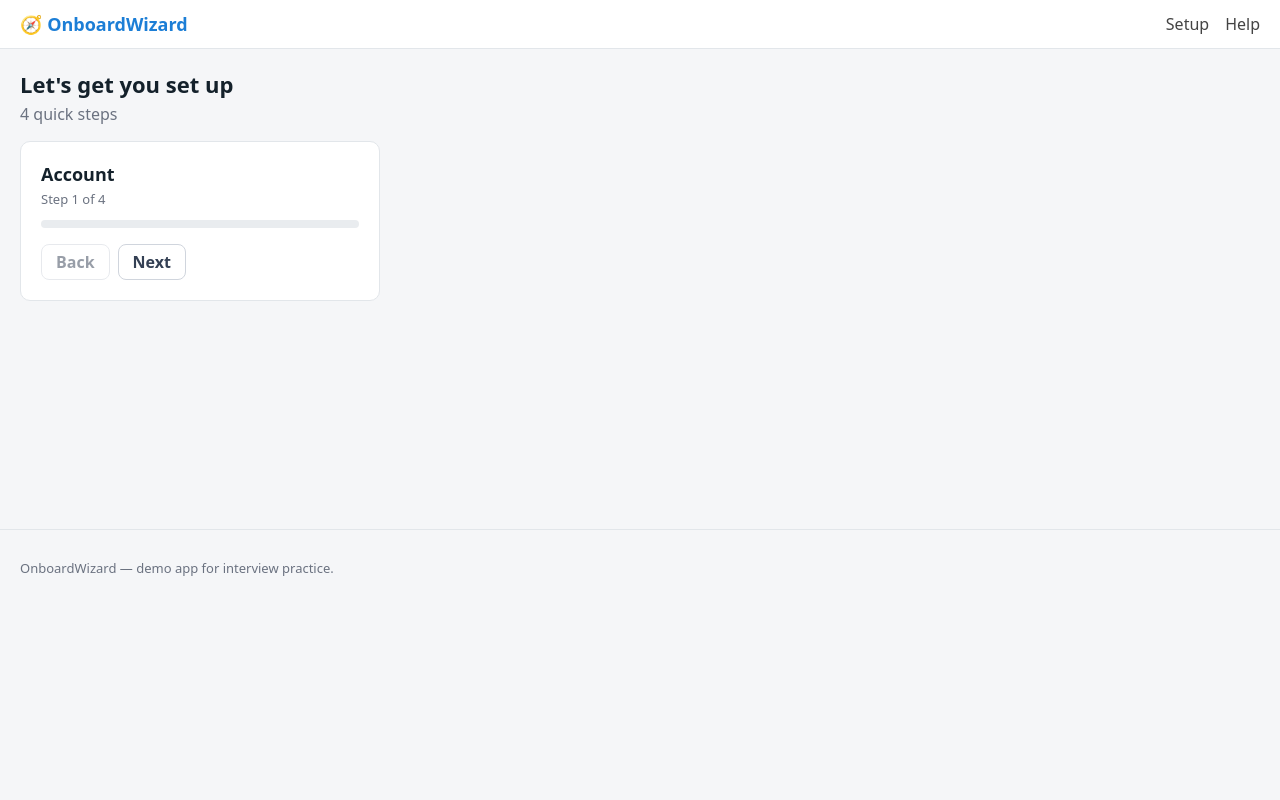
Test: m07 · OnboardWizard — app renders › navigates to the Help route via the navbar
Click the link with test id "nav-help" at (1243, 24), box left=1225, top=13, right=1260, bottom=35
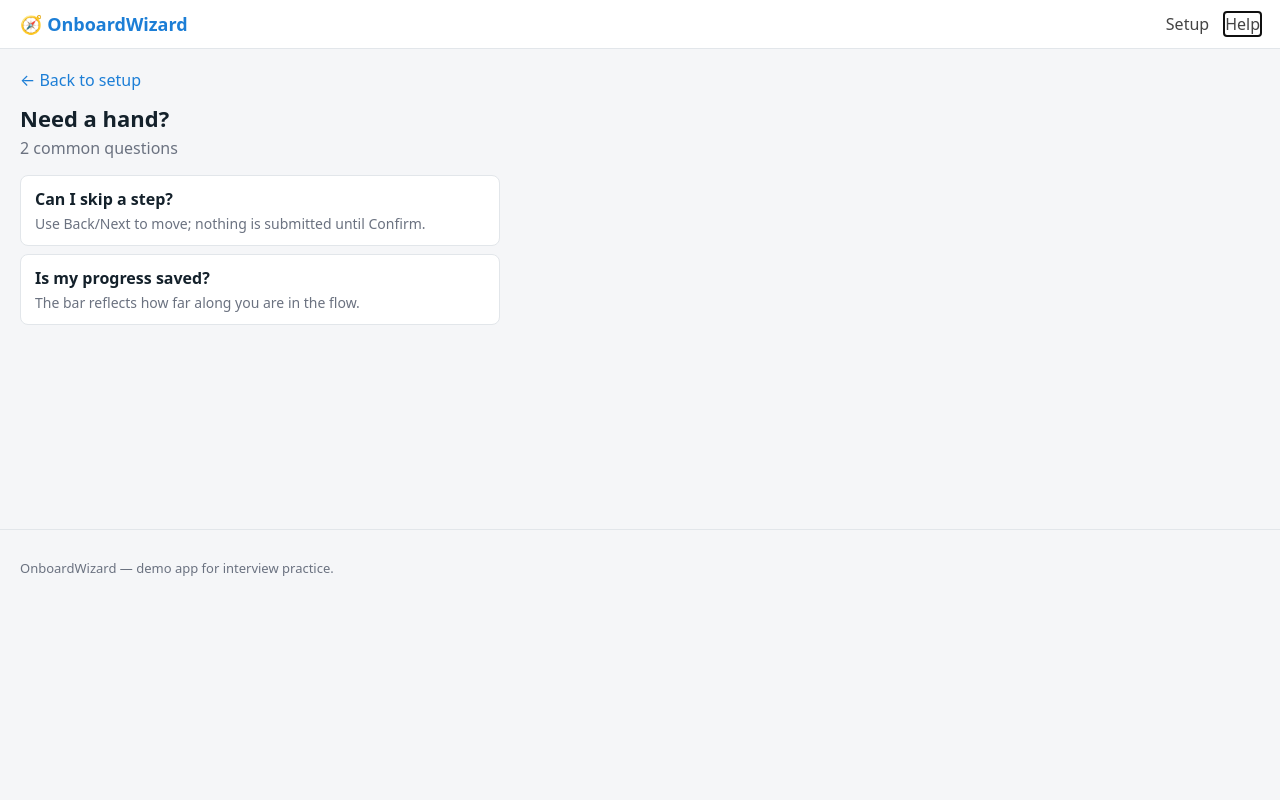
Check: the element with test id "help-page" is shown, box left=20, top=69, right=500, bottom=325
